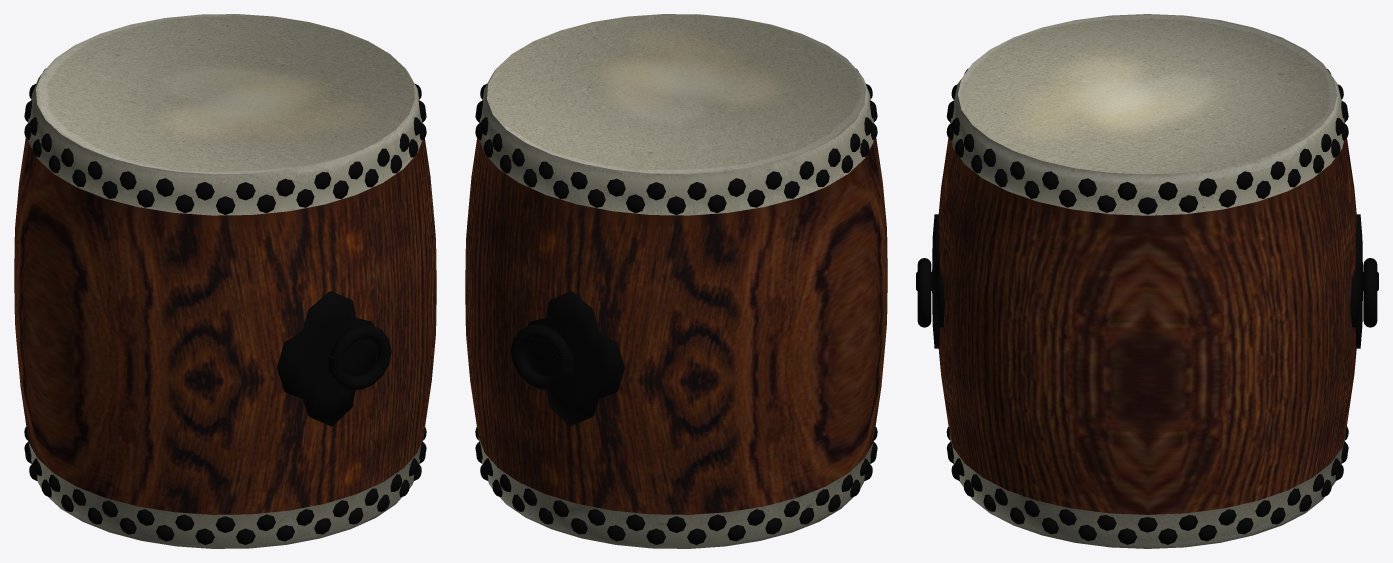
The model's file is drum.fbx.
3 renders of one model, left to right at view 1: azimuth 30°, elevation 25°; view 2: azimuth 150°, elevation 25°; view 3: azimuth 270°, elevation 25°, orthographic.
Parts seen in each view (by area): view 1: 円柱.001; view 2: 円柱.001; view 3: 円柱.001.
Part boxes in pixels (x1,y1,x2,y2): 円柱.001: (14, 14, 436, 548); 円柱.001: (465, 14, 887, 548); 円柱.001: (916, 14, 1378, 548).
Size of the model in its own units: 71.68 by 70 by 78.4.
